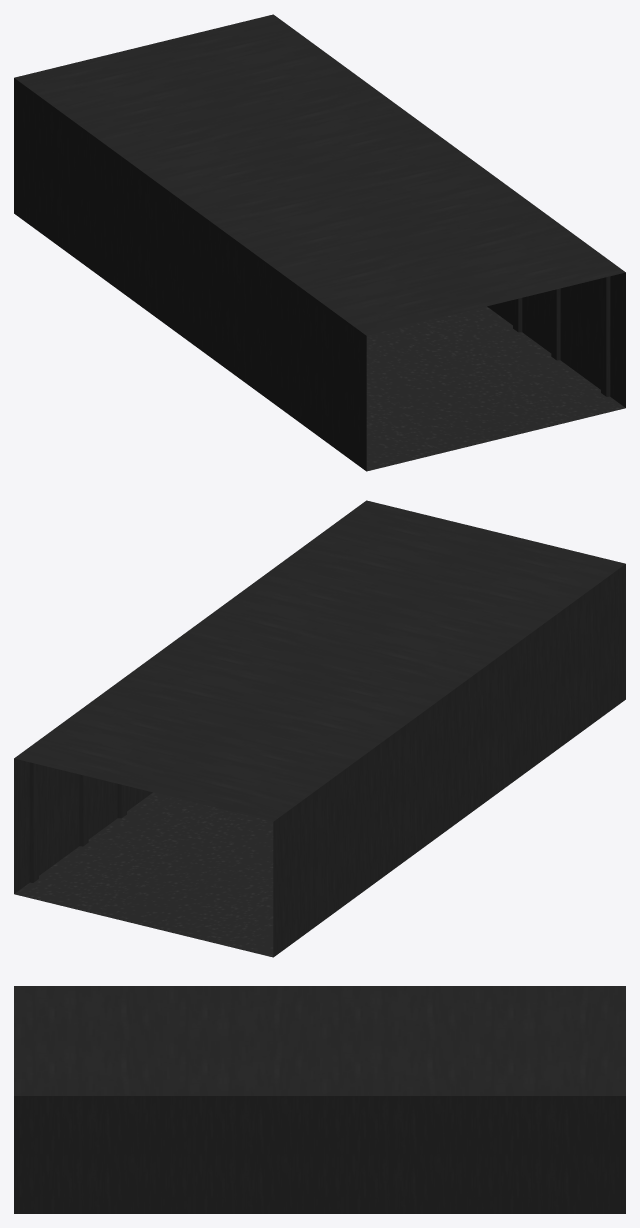
The model's file is SW_ENV_RailTunnel_B_01_Double_20m.fbx.
3 renders of one model, top to bottom at view 1: azimuth 30°, elevation 25°; view 2: azimuth 150°, elevation 25°; view 3: azimuth 270°, elevation 25°, orthographic. The views are drawn at different scales.
Visible parts, largest first — view 1: SW_ENV_RailTunnel_B_01_Double_20m; view 2: SW_ENV_RailTunnel_B_01_Double_20m; view 3: SW_ENV_RailTunnel_B_01_Double_20m.
Part boxes in pixels (x1,y1,x2,y2): SW_ENV_RailTunnel_B_01_Double_20m: [14, 14, 625, 471]; SW_ENV_RailTunnel_B_01_Double_20m: [14, 500, 625, 957]; SW_ENV_RailTunnel_B_01_Double_20m: [14, 986, 625, 1213].
Bounding box in the file's own units: 850 × 425 × 2000.
